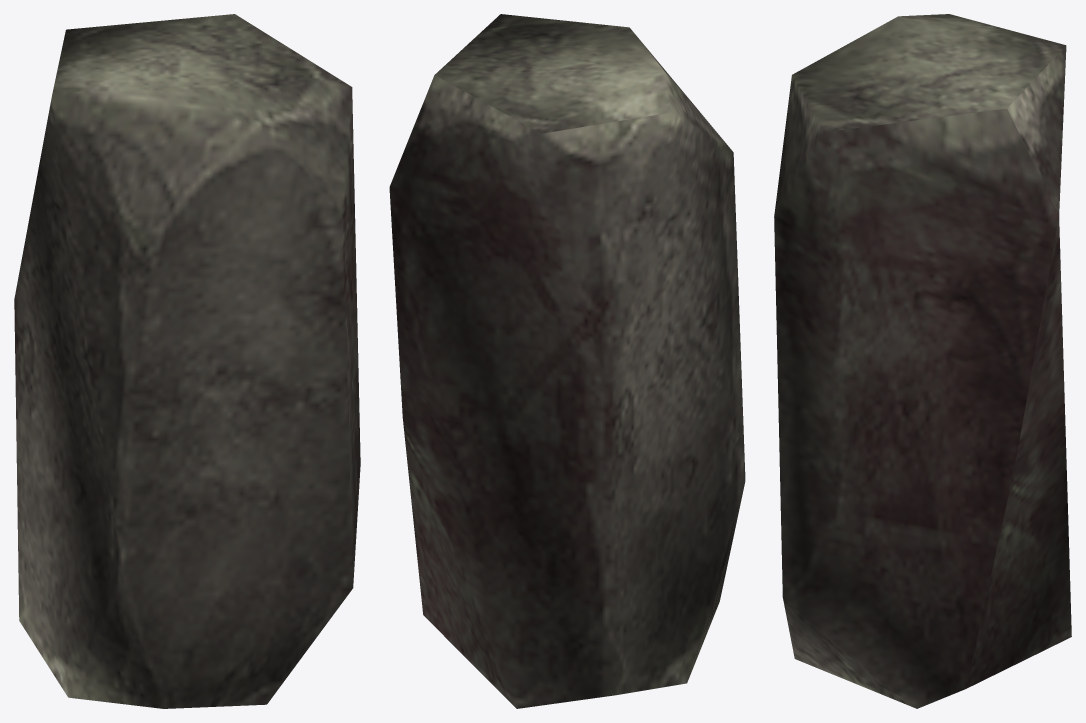
Rendered from Scene_Rock_07.FBX.
3 renders of one model, left to right at view 1: azimuth 30°, elevation 25°; view 2: azimuth 150°, elevation 25°; view 3: azimuth 270°, elevation 25°, orthographic.
Visible parts, largest first — view 1: Scene_Rock_07; view 2: Scene_Rock_07; view 3: Scene_Rock_07.
Boxes of the visible parts, box(x1,y1,x2,y2) form: Scene_Rock_07: box(14, 14, 360, 708); Scene_Rock_07: box(389, 14, 745, 708); Scene_Rock_07: box(774, 14, 1071, 708).
Size of the model in its own units: 1.15 by 2.63 by 1.19.
